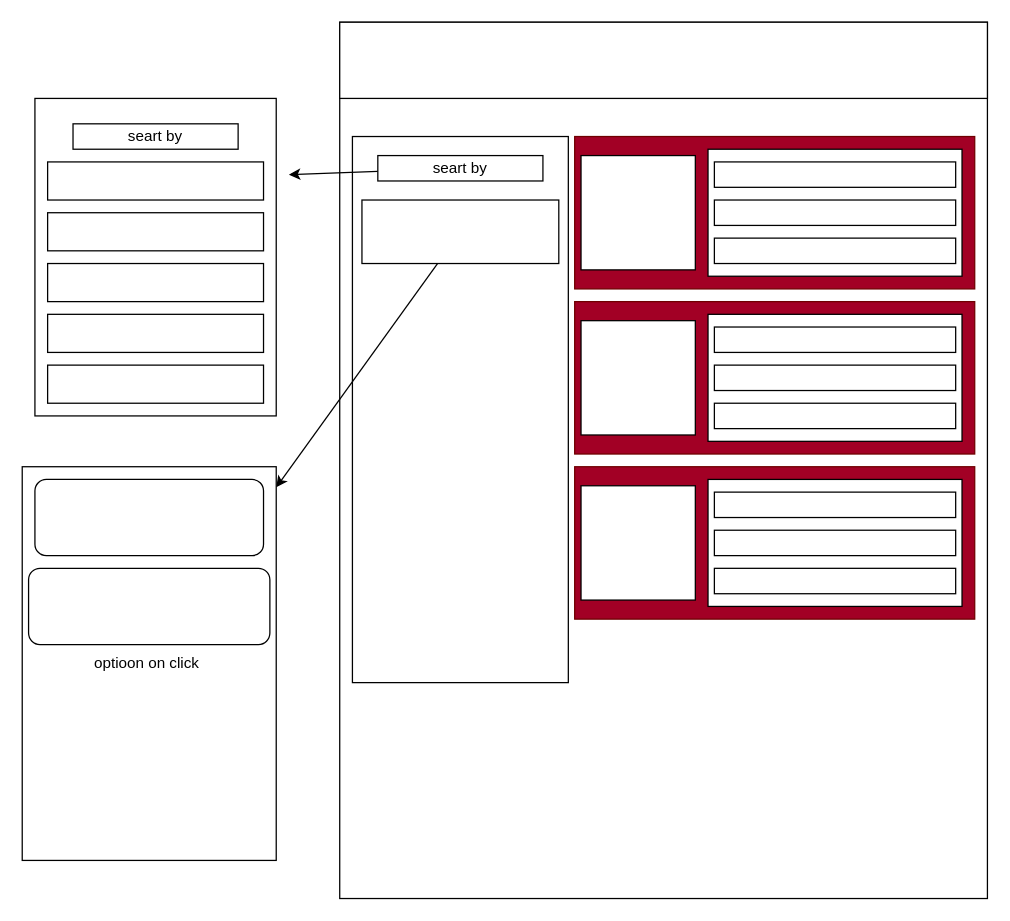
This 1010x921 diagram has some shape labels left out. The shapes that lost their labels are listed below. From the top down, each one's centre as x and y in pixels, then its label:
At [662,59]: "nav bar".
At [460,231]: "filter".
